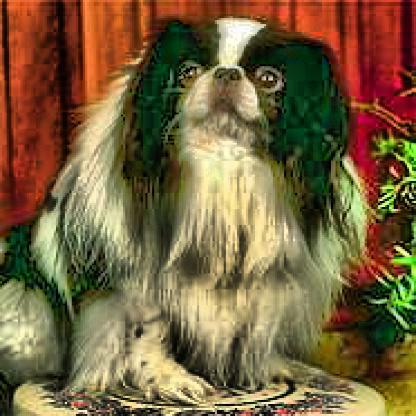dog: (107, 12, 358, 251)
